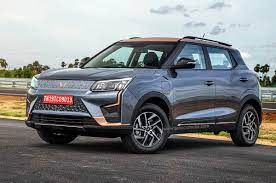XUV 400: (25, 33, 262, 157)
